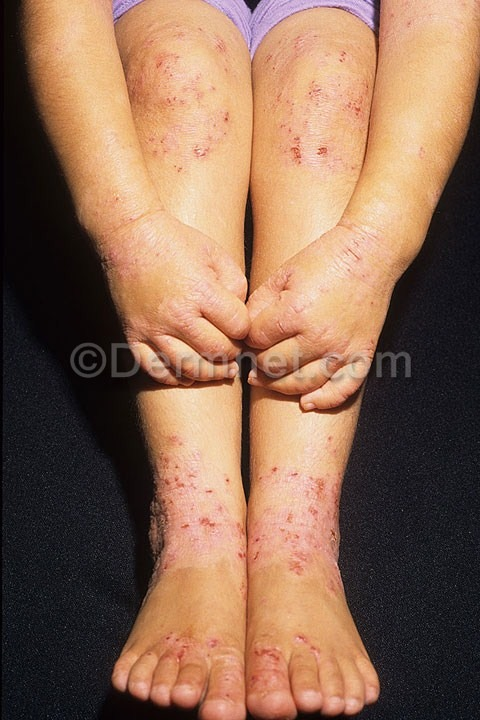Eczema: (253, 214, 395, 418), (129, 17, 243, 183), (255, 431, 361, 609), (259, 26, 379, 175), (141, 430, 248, 588), (138, 249, 243, 394), (142, 618, 243, 714), (250, 620, 356, 710), (76, 196, 159, 283), (412, 130, 450, 220), (383, 1, 477, 36)
